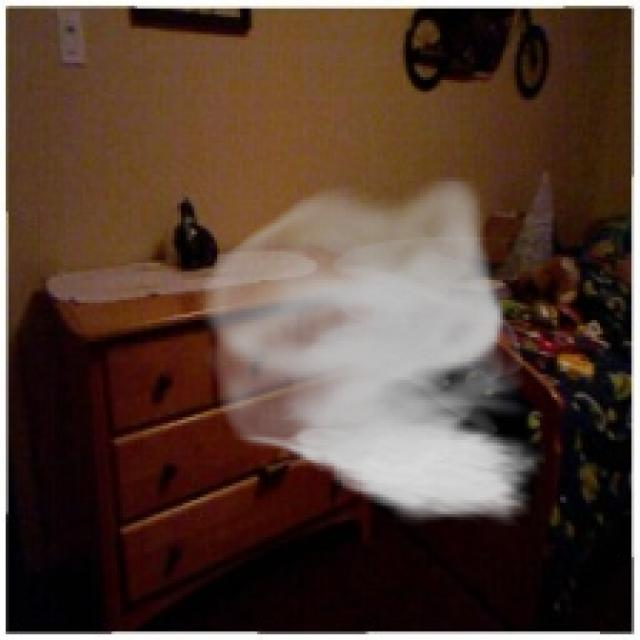smoke: (191, 177, 546, 526)
